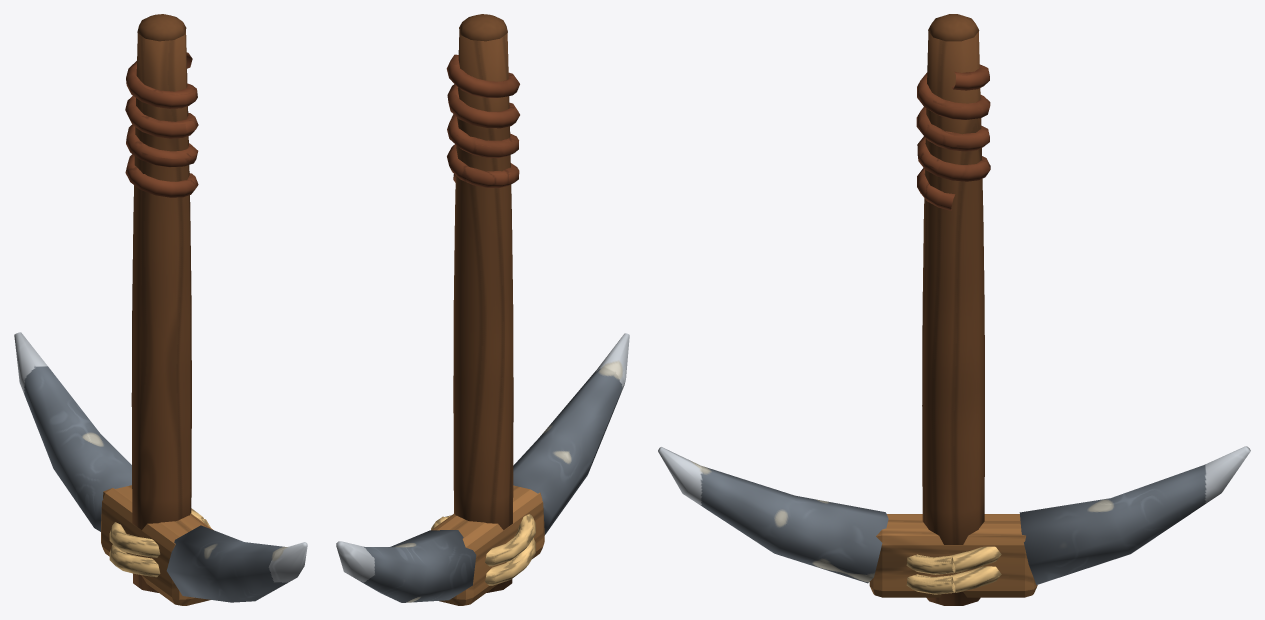
File: tool_pickaxe.glb
3 renders of one model, left to right at view 1: azimuth 30°, elevation 25°; view 2: azimuth 150°, elevation 25°; view 3: azimuth 270°, elevation 25°, orthographic. The views are drawn at different scales.
Parts seen in each view (by area): view 1: Tool; view 2: Tool; view 3: Tool.
Boxes of the visible parts, bbox=[...] form: Tool: bbox=[14, 14, 307, 605]; Tool: bbox=[336, 14, 629, 605]; Tool: bbox=[658, 14, 1250, 605].
Size of the model in its own units: 0.1257 by 0.7568 by 0.7056.
1 material, 1 textured.
